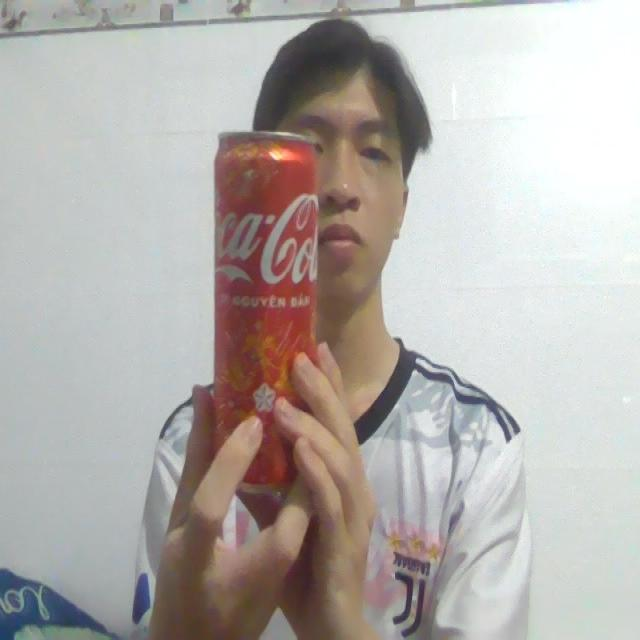cocacola: (198, 120, 339, 502)
